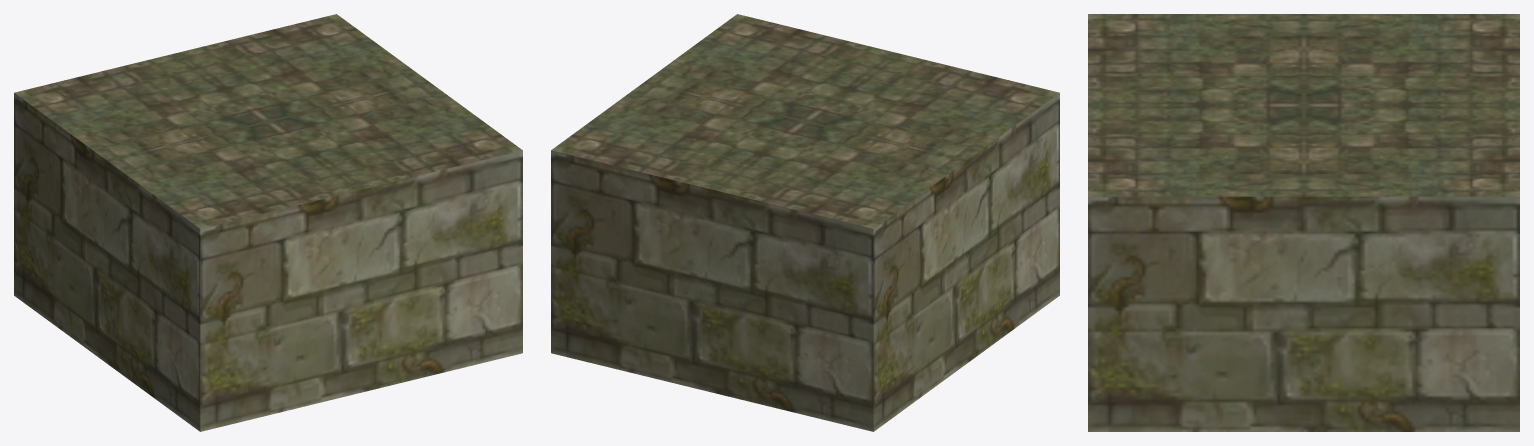
The model's file is top-floor-01.fbx.
The picture shows the model from 3 angles, left to right: view 1: azimuth 30°, elevation 25°; view 2: azimuth 150°, elevation 25°; view 3: azimuth 270°, elevation 25°; orthographic projection. The views are drawn at different scales.
Visible parts, largest first — view 1: Plane.012; view 2: Plane.012; view 3: Plane.012.
Part boxes in pixels (bbox=[...]): Plane.012: bbox=[14, 14, 522, 431]; Plane.012: bbox=[551, 14, 1059, 431]; Plane.012: bbox=[1088, 14, 1519, 431].
Bounding box in the file's own units: 1 × 0.6014 × 1.
